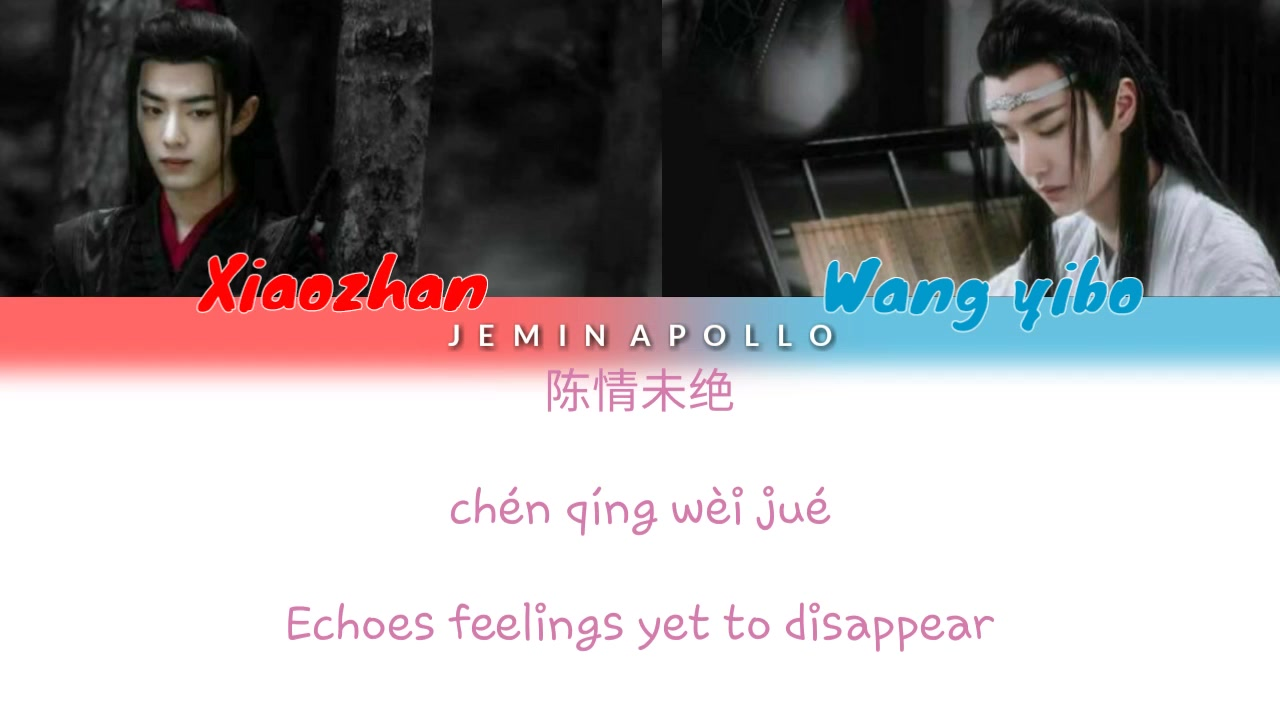text-label: (282, 595, 996, 656)
